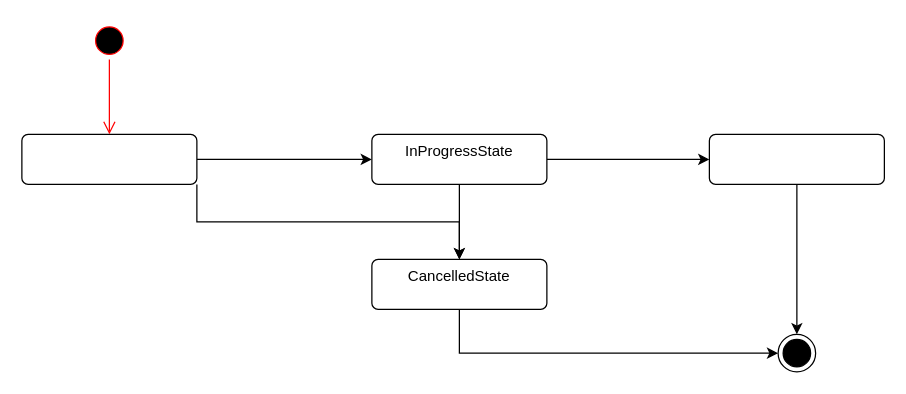
Image size: 906x394. Some labels were removed from this diagram. The shapes that lost their labels are listed below. From the top down, each one's centre as x and y in pixels, then its label:
the point at 109,158: RegisteredState
the point at 796,158: ConfirmedState
